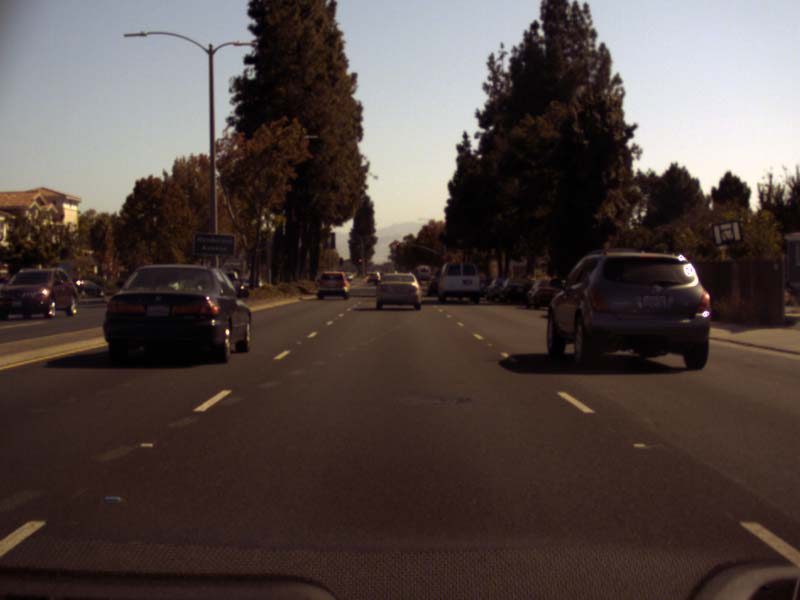Yellow: (395, 241, 399, 248), (358, 257, 362, 264)
